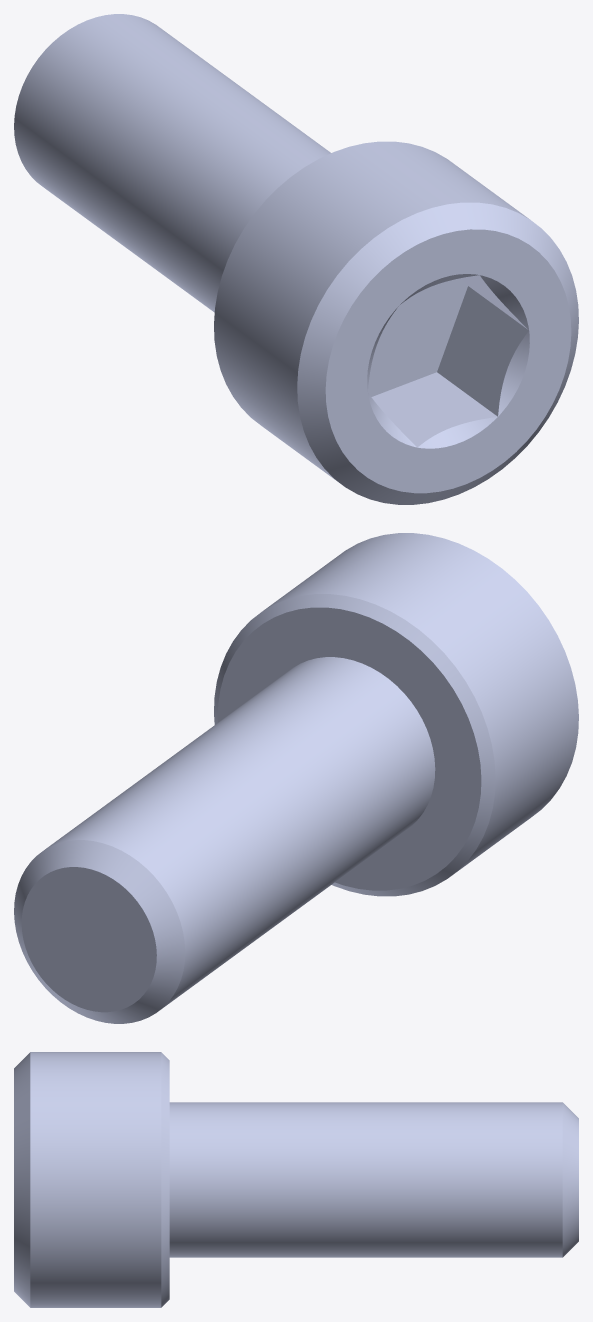
File: Chamfer3.obj
3 views of the same model, one above another, from view 1: azimuth 30°, elevation 25°; view 2: azimuth 150°, elevation 25°; view 3: azimuth 270°, elevation 25° (orthographic). The views are drawn at different scales.
Visible parts, largest first — view 1: mesh21532, mesh21527, mesh21523, mesh21525, mesh21514, mesh21517, mesh21519, mesh21524, mesh21531, mesh21526, mesh21518, mesh21520 (+2 smaller); view 2: mesh21532, mesh21527, mesh21530, mesh21535, mesh21534, mesh21529, mesh21533, mesh21531, mesh21528, mesh21526; view 3: mesh21531, mesh21526, mesh21532, mesh21527, mesh21524, mesh21533, mesh21528, mesh21525, mesh21534, mesh21529.
Part boxes in pixels (left/top/right/bottom): mesh21532: left=14, top=14, right=324, bottom=312; mesh21527: left=214, top=141, right=491, bottom=485; mesh21523: left=325, top=229, right=571, bottom=493; mesh21525: left=297, top=202, right=495, bottom=502; mesh21514: left=368, top=278, right=467, bottom=396; mesh21517: left=437, top=286, right=528, bottom=416; mesh21519: left=371, top=372, right=497, bottom=447; mesh21524: left=385, top=204, right=578, bottom=504; mesh21531: left=133, top=15, right=330, bottom=155; mesh21526: left=409, top=143, right=528, bottom=218; mesh21518: left=498, top=331, right=529, bottom=416; mesh21520: left=417, top=417, right=497, bottom=448; mesh21532: left=67, top=657, right=435, bottom=1009; mesh21527: left=301, top=533, right=578, bottom=875; mesh21530: left=217, top=607, right=481, bottom=890; mesh21535: left=21, top=867, right=156, bottom=1012; mesh21534: left=63, top=840, right=185, bottom=1022; mesh21529: left=299, top=594, right=495, bottom=894; mesh21533: left=14, top=841, right=131, bottom=1023; mesh21531: left=45, top=658, right=315, bottom=849; mesh21528: left=214, top=596, right=408, bottom=896; mesh21526: left=263, top=535, right=383, bottom=610; mesh21531: left=169, top=1127, right=562, bottom=1257; mesh21526: left=30, top=1093, right=161, bottom=1307; mesh21532: left=169, top=1102, right=562, bottom=1127; mesh21527: left=30, top=1052, right=161, bottom=1093; mesh21524: left=14, top=1094, right=30, bottom=1307; mesh21533: left=562, top=1128, right=578, bottom=1257; mesh21528: left=161, top=1094, right=169, bottom=1307; mesh21525: left=14, top=1052, right=30, bottom=1104; mesh21534: left=562, top=1102, right=578, bottom=1138; mesh21529: left=161, top=1052, right=169, bottom=1098.
Size of the model in its own units: 0.00794 by 0.00793 by 0.0175.
